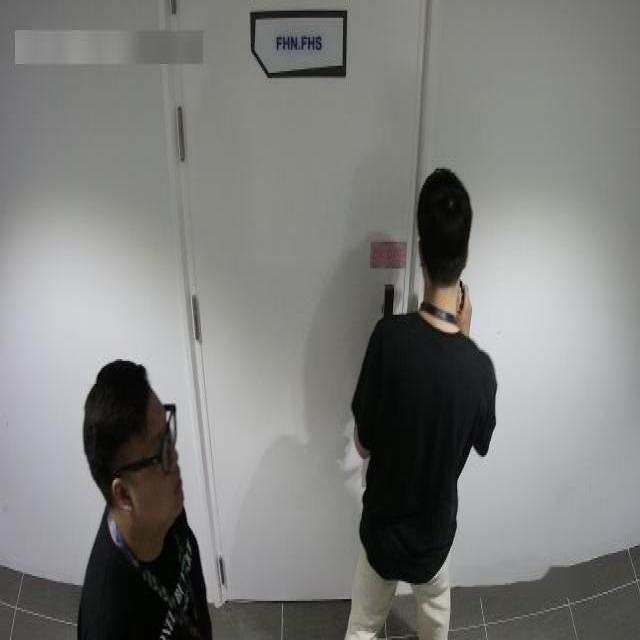bare_hand: (450, 265, 485, 340)
